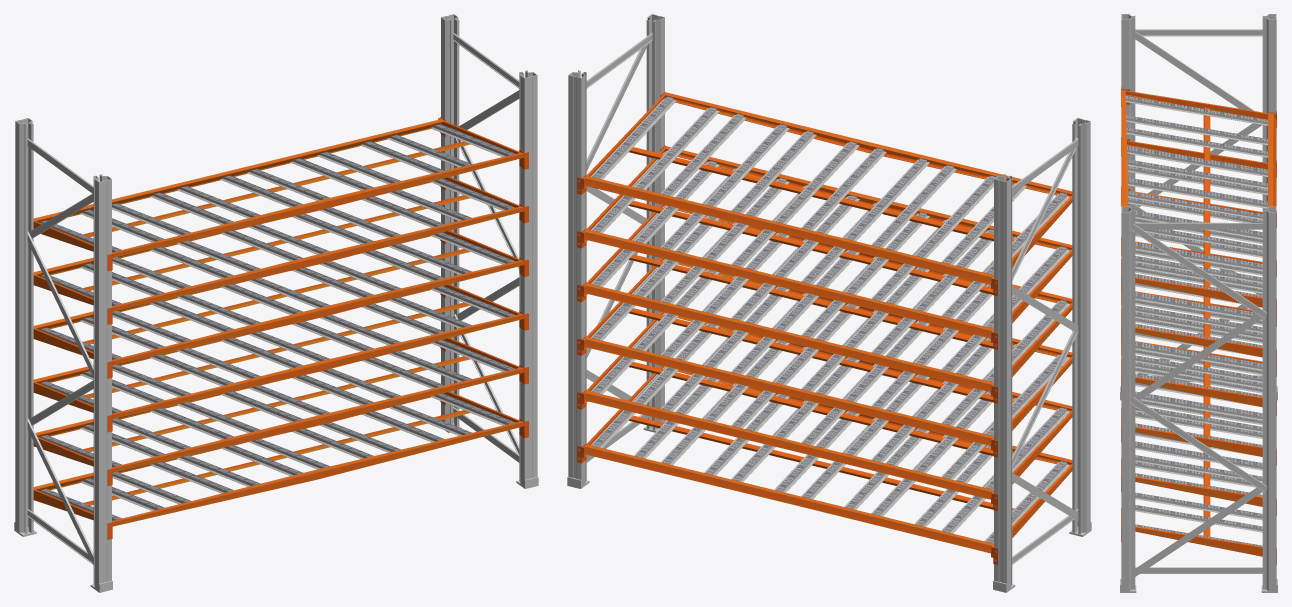
The model's file is 3_Carton_Flow_Simple.fbx.
3 renders of one model, left to right at view 1: azimuth 30°, elevation 25°; view 2: azimuth 150°, elevation 25°; view 3: azimuth 270°, elevation 25°, orthographic. The views are drawn at different scales.
Parts seen in each view (by area): view 1: Carton_Flow; view 2: Carton_Flow; view 3: Carton_Flow.
Boxes of the visible parts, x1=… form: Carton_Flow: x1=14, y1=14, x2=538, y2=592; Carton_Flow: x1=567, y1=14, x2=1091, y2=592; Carton_Flow: x1=1120, y1=14, x2=1277, y2=592.
Bounding box in the file's own units: 280 × 250 × 94.01.
